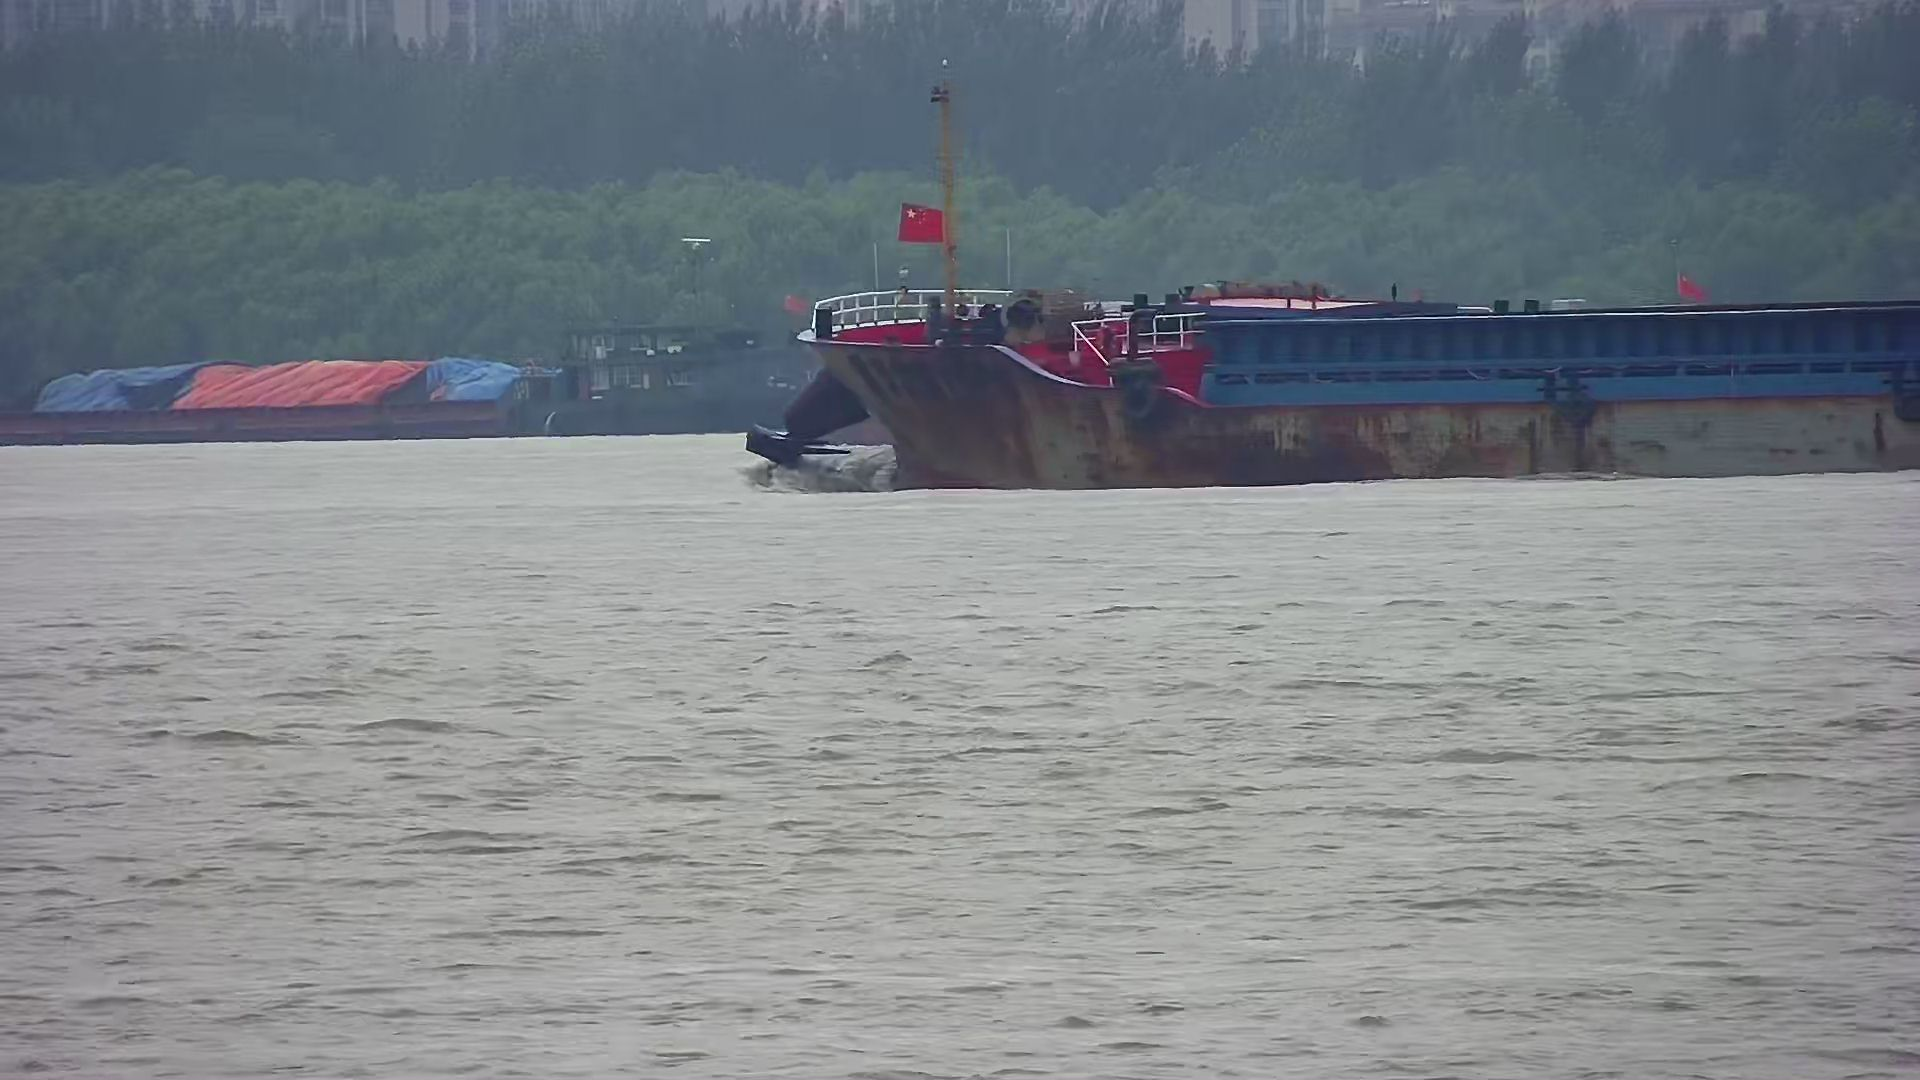ship: (749, 63, 1919, 496), (1, 309, 816, 447)
